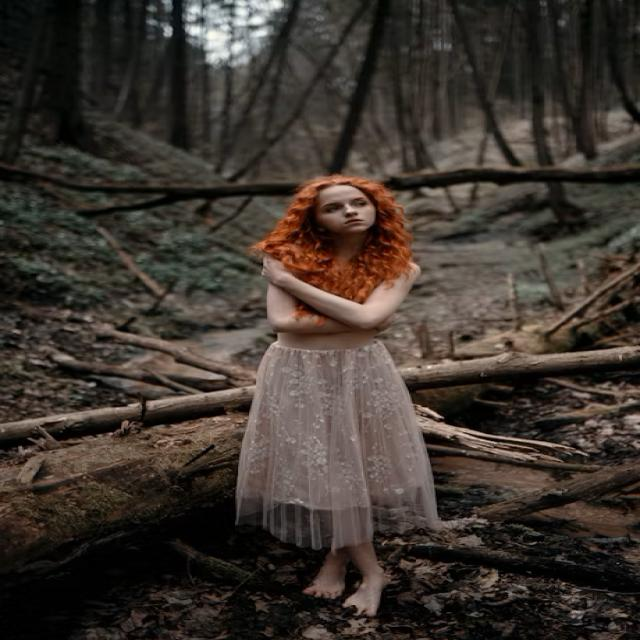Edited images: (202, 157, 468, 623)
